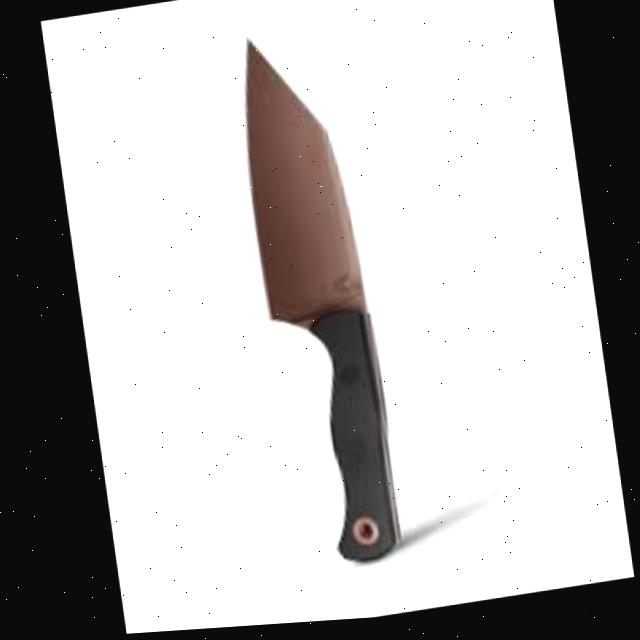Knife: (226, 25, 399, 574)
